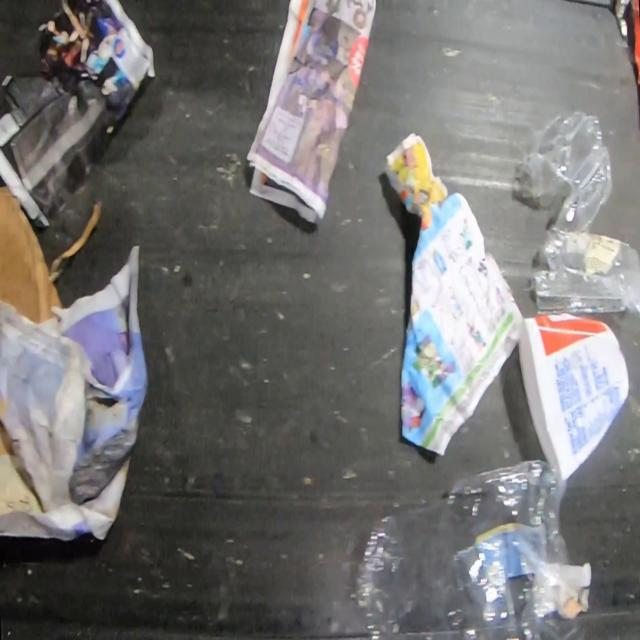cardboard: (0, 185, 103, 326), (626, 0, 639, 176)
rigid_plastic: (511, 107, 640, 319), (518, 311, 630, 483)
soft_plastic: (354, 460, 582, 639)
